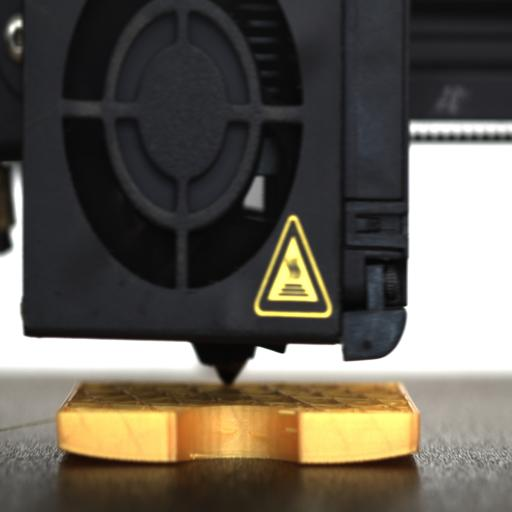warp: (297, 408, 419, 464), (55, 406, 172, 462)
